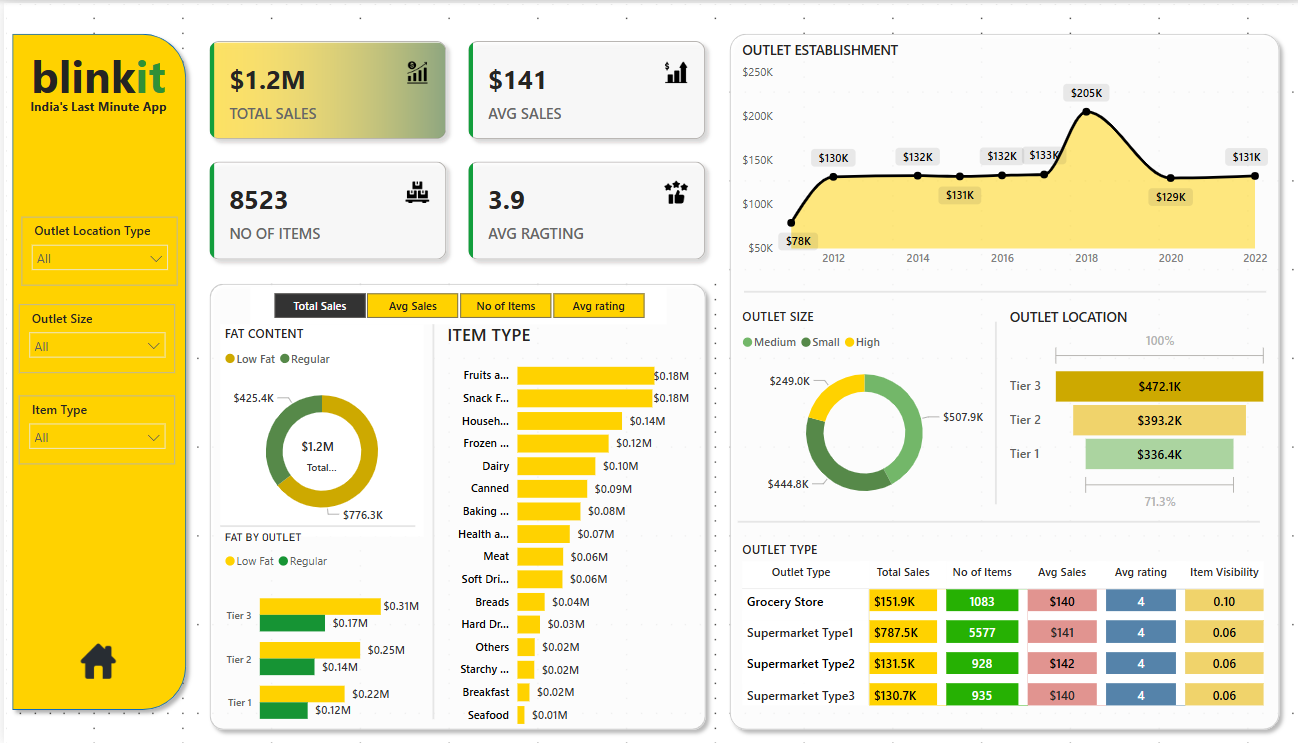

The page's visual inventory and layout, read from the dashboard file:
{"tool":"powerbi","page":{"name":"Page 1","canvas":[1400,800],"ordinal":0},"visuals":[{"type":"shape","box":[0,24.8,205.9,749.4],"z":0},{"type":"textbox","box":[16.2,40.6,171.7,79.8],"z":1000},{"type":"textbox","box":[16.2,97.4,171.7,33.8],"z":2000},{"type":"cardVisual","fields":{"Data":["BlinkIT Grocery Data.Total Sales","BlinkIT Grocery Data.Average Sales","BlinkIT Grocery Data.No of Items","BlinkIT Grocery Data.Average rating"]},"box":[205.5,24.3,570.6,270.4],"z":3000},{"type":"shape","box":[213.6,294.8,554.4,500.3],"z":4000},{"type":"slicer","fields":{"Values":["Parameter.Parameter"]},"box":[266.4,306.9,450.3,40.6],"z":5000},{"type":"donutChart","title":"FAT CONTENT","fields":{"Y":["BlinkIT Grocery Data.Total Sales"],"Category":["BlinkIT Grocery Data.Item Fat Content"]},"box":[233.9,347.5,220.4,229.9],"z":6000},{"type":"cardVisual","fields":{"Data":["BlinkIT Grocery Data.Total Sales"]},"box":[298.8,453,81.1,59.5],"z":7000},{"type":"clusteredBarChart","title":"FAT BY OUTLET","fields":{"Y":["BlinkIT Grocery Data.Total Sales"],"Category":["BlinkIT Grocery Data.Outlet Location Type"],"Series":["BlinkIT Grocery Data.Item Fat Content"]},"box":[233.9,570.6,220.4,229.9],"z":8000},{"type":"shape","box":[233.9,554.4,210.9,23],"z":9000},{"type":"shape","box":[454.3,347.5,20.3,427.3],"z":10000},{"type":"barChart","title":"ITEM TYPE","fields":{"Category":["BlinkIT Grocery Data.Item Type"],"Y":["BlinkIT Grocery Data.Total Sales"]},"box":[474.6,346.1,271.8,448.9],"z":11000},{"type":"shape","box":[776.1,24.3,612.5,770.7],"z":12000},{"type":"lineChart","title":"OUTLET ESTABLISHMENT","fields":{"Category":["BlinkIT Grocery Data.Outlet Establishment Year"],"Y":["BlinkIT Grocery Data.Total Sales"]},"box":[793.7,40.6,578.7,254.2],"z":13000},{"type":"donutChart","title":"OUTLET SIZE","fields":{"Y":["BlinkIT Grocery Data.Total Sales"],"Category":["BlinkIT Grocery Data.Outlet Size"]},"box":[793.7,329.7,274.5,224.5],"z":14000},{"type":"shape","box":[800.5,296.1,565.2,32.5],"z":15000},{"type":"shape","box":[1062.8,344.8,20.3,197.4],"z":16000},{"type":"funnel","title":"OUTLET LOCATION","fields":{"Category":["BlinkIT Grocery Data.Outlet Location Type"],"Y":["BlinkIT Grocery Data.Total Sales"]},"box":[1083,328,289.4,225.8],"z":17000},{"type":"shape","box":[793.7,544.9,565.2,32.5],"z":18000},{"type":"pivotTable","title":"OUTLET TYPE","fields":{"Rows":["BlinkIT Grocery Data.Outlet Type"],"Values":["BlinkIT Grocery Data.Total Sales","BlinkIT Grocery Data.No of Items","BlinkIT Grocery Data.Average Sales","BlinkIT Grocery Data.Average rating","Avg(BlinkIT Grocery Data.Item Visibility)"]},"box":[793.7,581.4,578.7,193.4],"z":19000},{"type":"slicer","fields":{"Values":["BlinkIT Grocery Data.Outlet Location Type"]},"box":[18.9,230.9,169,74.4],"z":20000},{"type":"slicer","fields":{"Values":["BlinkIT Grocery Data.Outlet Size"]},"box":[16.2,325.5,169,74.4],"z":21000},{"type":"slicer","fields":{"Values":["BlinkIT Grocery Data.Item Type"]},"box":[16.2,424.6,169,74.4],"z":22000},{"type":"image","box":[67,611.3,65.7,67],"z":22001}]}

Visuals, with their boxes in screenshot pixels (x1, y1, x2, y2), scaled from the page's 1400x800 canvas onto the 1298x743 screenshot:
shape: 0:23:191:719
textbox: 15:38:174:112
textbox: 15:90:174:122
cardVisual - BlinkIT Grocery Data.Total Sales x BlinkIT Grocery Data.Average Sales: 191:23:720:274
shape: 198:274:712:738
slicer - Parameter.Parameter: 247:285:664:323
"FAT CONTENT" donutChart: 217:323:421:536
cardVisual - BlinkIT Grocery Data.Total Sales: 277:421:352:476
"FAT BY OUTLET" clusteredBarChart: 217:530:421:742
shape: 217:515:412:536
shape: 421:323:440:720
"ITEM TYPE" barChart: 440:321:692:738
shape: 720:23:1287:738
"OUTLET ESTABLISHMENT" lineChart: 736:38:1272:274
"OUTLET SIZE" donutChart: 736:306:990:515
shape: 742:275:1266:305
shape: 985:320:1004:504
"OUTLET LOCATION" funnel: 1004:305:1272:514
shape: 736:506:1260:536
"OUTLET TYPE" pivotTable: 736:540:1272:720
slicer - BlinkIT Grocery Data.Outlet Location Type: 18:214:174:284
slicer - BlinkIT Grocery Data.Outlet Size: 15:302:172:371
slicer - BlinkIT Grocery Data.Item Type: 15:394:172:463
image: 62:568:123:630
